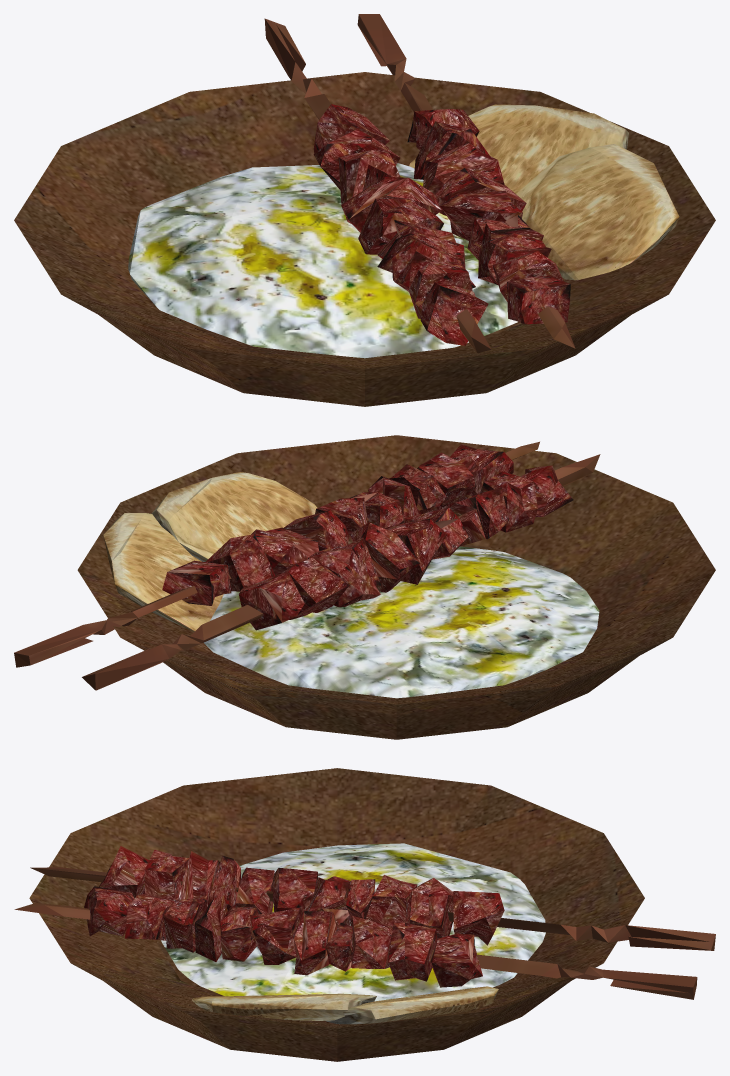
File: ITFO_GS_SHAW_04.glb
3 views of the same model, one above another, from view 1: azimuth 30°, elevation 25°; view 2: azimuth 150°, elevation 25°; view 3: azimuth 270°, elevation 25° (orthographic). The views are drawn at different scales.
Parts seen in each view (by area): view 1: ITFO_GS_SHAW_04; view 2: ITFO_GS_SHAW_04; view 3: ITFO_GS_SHAW_04.
Boxes of the visible parts, bbox=[...] form: ITFO_GS_SHAW_04: bbox=[14, 14, 715, 406]; ITFO_GS_SHAW_04: bbox=[14, 435, 715, 739]; ITFO_GS_SHAW_04: bbox=[14, 768, 715, 1061].
Size of the model in its own units: 0.3731 by 0.0732 by 0.4254.
3 materials, 3 textured.
